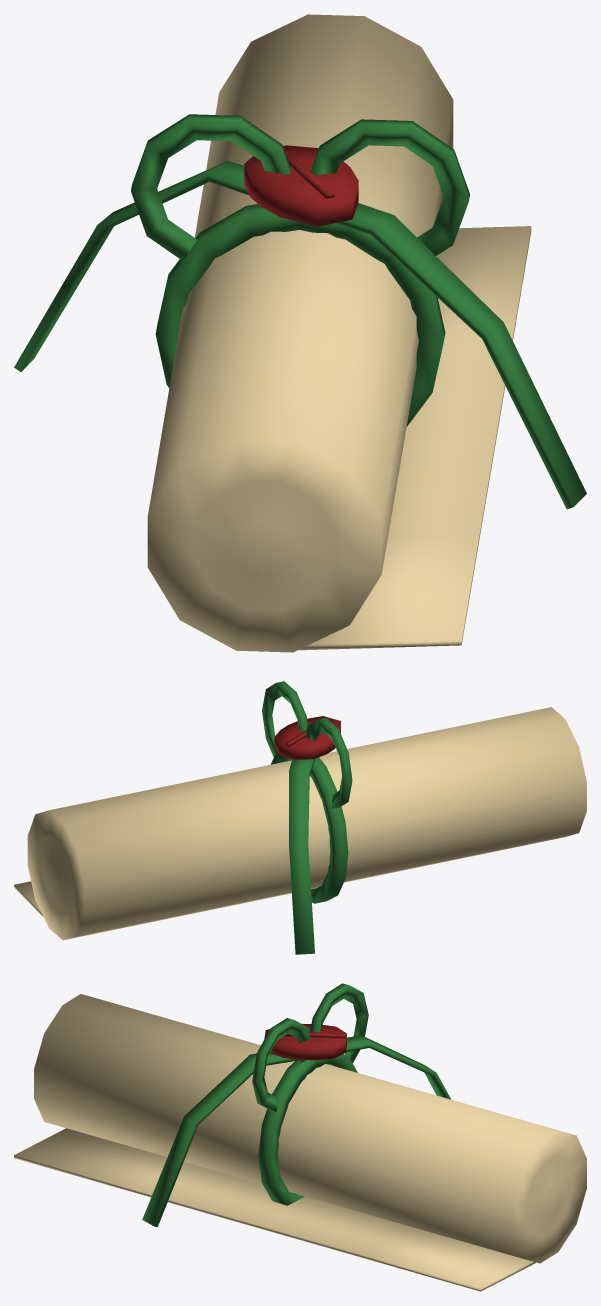
File: Mapa.glb
3 renders of one model, top to bottom at view 1: azimuth 30°, elevation 25°; view 2: azimuth 150°, elevation 25°; view 3: azimuth 270°, elevation 25°, orthographic. The views are drawn at different scales.
Visible parts, largest first — view 1: Mapa; view 2: Mapa; view 3: Mapa.
Part boxes in pixels (x1=…): Mapa: x1=14, y1=14, x2=586, y2=652; Mapa: x1=14, y1=681, x2=586, y2=954; Mapa: x1=14, y1=983, x2=586, y2=1291.
Bounding box in the file's own units: 0.2843 × 0.1318 × 0.3478.
